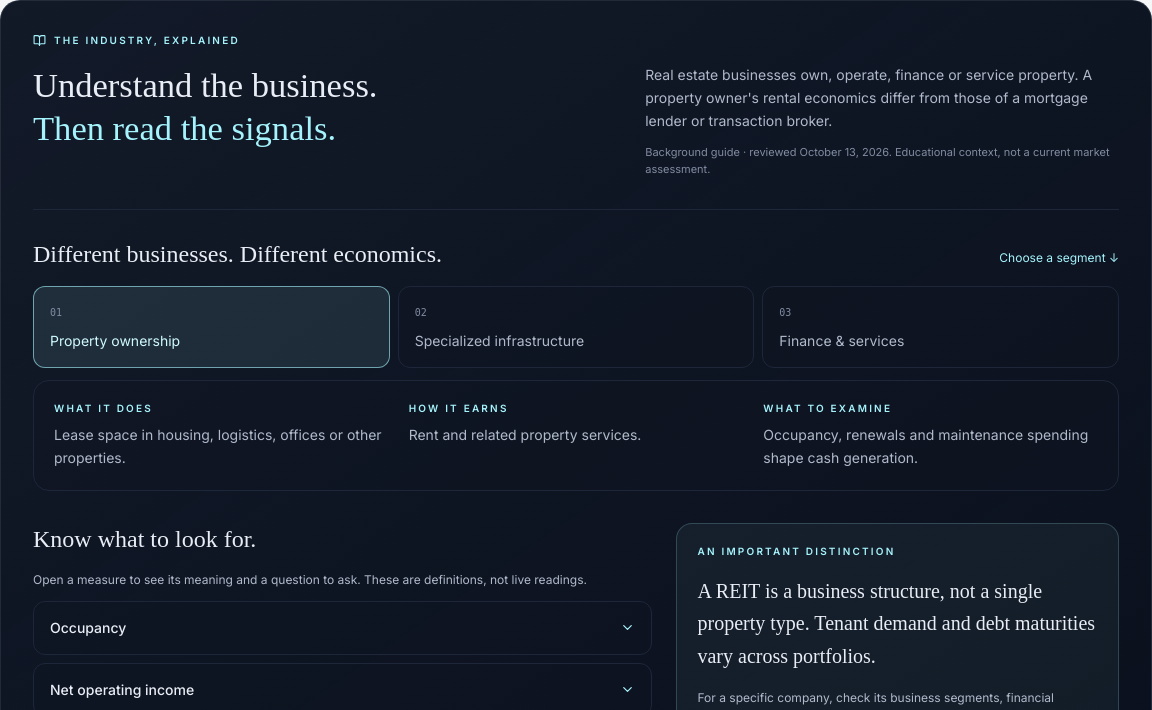
Test case: provides a usable distinct guide for real-estate even without reporting
Click the button "02 Specialized infrastructure".
click(499, 341)  # box top-left (398, 286), bottom-right (754, 368)
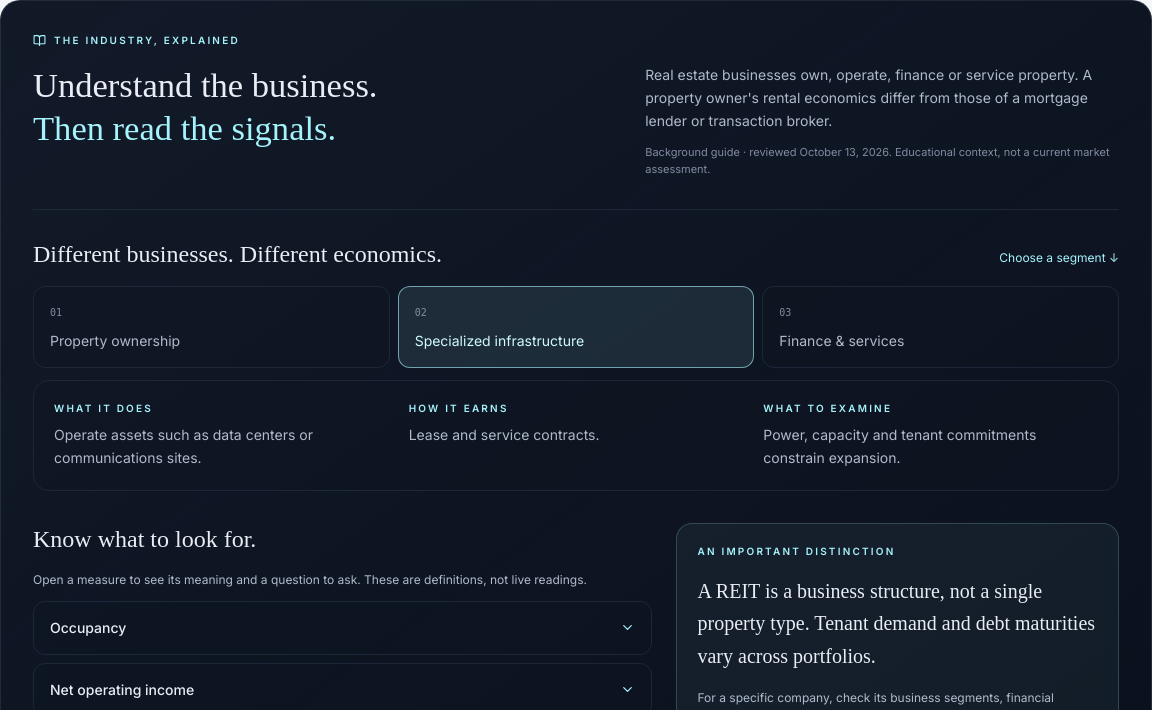
Expected: the text "definitions, not live readings" is shown, top-left (33, 572), bottom-right (587, 587)
Now the text "Lease and service contracts." is shown, box top-left (409, 426), bottom-right (600, 443)
Now the text "Rent and related property services." is gone
